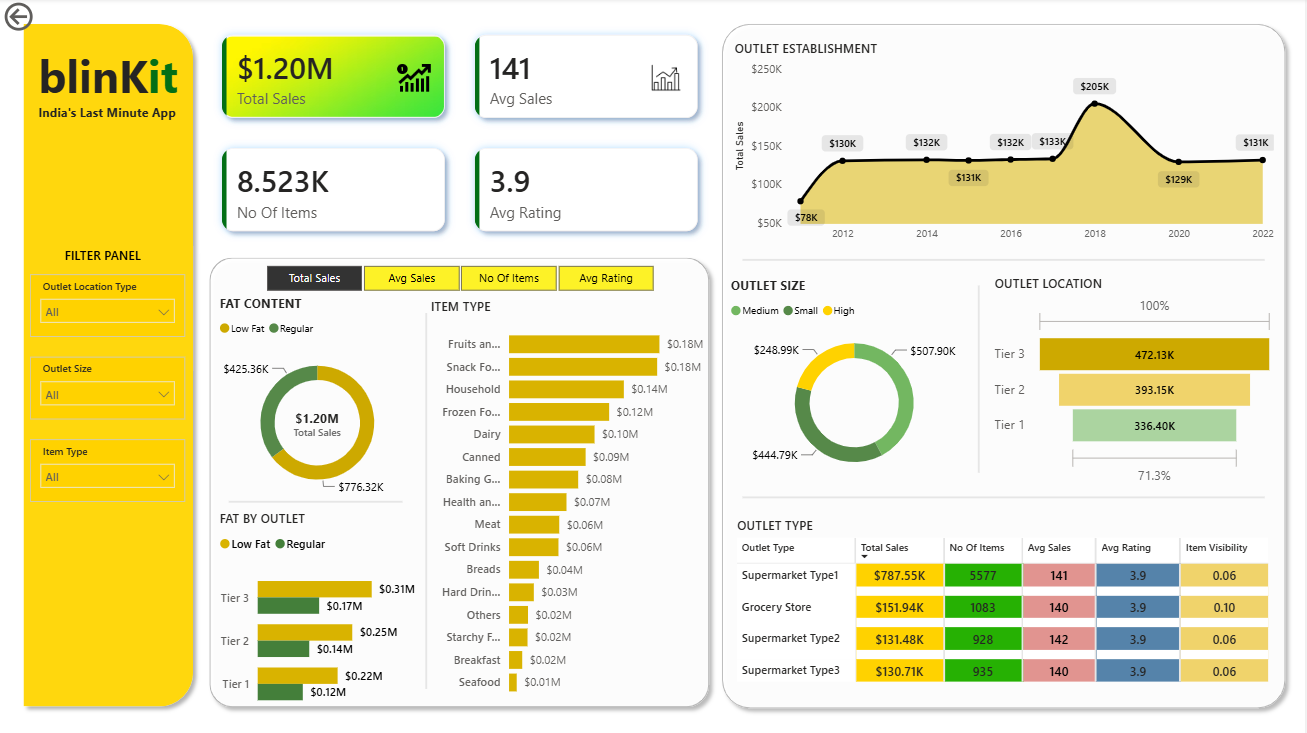

The page's visual inventory and layout, read from the dashboard file:
{"tool":"powerbi","page":{"name":"Page 1","canvas":[1400,800],"ordinal":0},"visuals":[{"type":"shape","box":[15.7,18.6,200,750],"z":0},{"type":"textbox","box":[15.7,45.7,200,124.3],"z":1000},{"type":"textbox","box":[35.7,108.6,158.6,41.4],"z":2000},{"type":"cardVisual","fields":{"Data":["BlinkIT Grocery Data.Total Sales","BlinkIT Grocery Data.Avg Sales","BlinkIT Grocery Data.No Of Items","BlinkIT Grocery Data.Avg Rating"]},"box":[209.1,10.7,569.7,269.4],"z":3000},{"type":"shape","box":[215.8,269.4,553.6,500],"z":4000},{"type":"donutChart","title":"FAT CONTENT","fields":{"Y":["BlinkIT Grocery Data.Total Sales"],"Category":["BlinkIT Grocery Data.Item Fat Content"]},"box":[230.6,317.7,219.8,230.6],"z":5000},{"type":"slicer","fields":{"Values":["Matrics.Matrics"]},"box":[260.1,280.2,465.1,40.2],"z":6000},{"type":"actionButton","box":[0,0,100,40],"z":7000},{"type":"cardVisual","fields":{"Data":["BlinkIT Grocery Data.Total Sales"]},"box":[284.2,418.2,112.6,77.7],"z":8000},{"type":"clusteredBarChart","title":"FAT BY OUTLET","fields":{"Y":["BlinkIT Grocery Data.Total Sales"],"Category":["BlinkIT Grocery Data.Outlet Location Type"],"Series":["BlinkIT Grocery Data.Item Fat Content"]},"box":[230.6,548.3,219.8,230.6],"z":9000},{"type":"shape","box":[245.3,530.8,186.3,18.8],"z":10000},{"type":"shape","box":[446.4,337.8,21.4,403.5],"z":11000},{"type":"barChart","title":"ITEM TYPE","fields":{"Y":["BlinkIT Grocery Data.Total Sales"],"Category":["BlinkIT Grocery Data.Item Type"]},"box":[457.1,321.7,303,437],"z":12000},{"type":"shape","box":[765.4,18.8,622,752],"z":13000},{"type":"lineChart","title":"OUTLET ESTABLISHMENT","fields":{"Y":["BlinkIT Grocery Data.Total Sales"],"Category":["BlinkIT Grocery Data.Outlet Establishment Year"]},"box":[782.8,44.2,588.5,225.2],"z":14000},{"type":"shape","box":[796.3,262.7,560.3,36.2],"z":15000},{"type":"donutChart","title":"OUTLET SIZE","fields":{"Y":["BlinkIT Grocery Data.Total Sales"],"Category":["BlinkIT Grocery Data.Outlet Size"]},"box":[778.8,298.9,274.8,225.2],"z":16000},{"type":"shape","box":[1034.9,308.3,29.5,201.1],"z":17000},{"type":"funnel","title":"OUTLET LOCATION","fields":{"Y":["Sum(BlinkIT Grocery Data.Sales)"],"Category":["BlinkIT Grocery Data.Outlet Location Type"]},"box":[1061.7,296.2,309.7,230.6],"z":18000},{"type":"shape","box":[796.3,517.4,560.3,36.2],"z":19000},{"type":"pivotTable","title":"OUTLET TYPE","fields":{"Rows":["BlinkIT Grocery Data.Outlet Type"],"Values":["BlinkIT Grocery Data.Total Sales","BlinkIT Grocery Data.No Of Items","BlinkIT Grocery Data.Avg Sales","BlinkIT Grocery Data.Avg Rating","Avg(BlinkIT Grocery Data.Item Visibility)"]},"box":[785.5,556.3,584.5,219.8],"z":20000},{"type":"slicer","fields":{"Values":["BlinkIT Grocery Data.Outlet Location Type"]},"box":[32.2,296.2,166.2,67],"z":21000},{"type":"slicer","fields":{"Values":["BlinkIT Grocery Data.Item Type"]},"box":[32.2,473.2,166.2,67],"z":22000},{"type":"slicer","fields":{"Values":["BlinkIT Grocery Data.Outlet Size"]},"box":[32.2,384.7,166.2,67],"z":23000},{"type":"textbox","box":[64.3,261.4,104.3,34.3],"z":24000}]}

Visuals, with their boxes on the page's 1400x800 design canvas (x1, y1, x2, y2). These are canvas units, not pixel positions in the 1307x733 screenshot, which may show the page scaled, cropped or inside an application window:
shape: [left=16, top=19, right=216, bottom=769]
textbox: [left=16, top=46, right=216, bottom=170]
textbox: [left=36, top=109, right=194, bottom=150]
cardVisual - BlinkIT Grocery Data.Total Sales x BlinkIT Grocery Data.Avg Sales: [left=209, top=11, right=779, bottom=280]
shape: [left=216, top=269, right=769, bottom=769]
"FAT CONTENT" donutChart: [left=231, top=318, right=450, bottom=548]
slicer - Matrics.Matrics: [left=260, top=280, right=725, bottom=320]
actionButton: [left=0, top=0, right=100, bottom=40]
cardVisual - BlinkIT Grocery Data.Total Sales: [left=284, top=418, right=397, bottom=496]
"FAT BY OUTLET" clusteredBarChart: [left=231, top=548, right=450, bottom=779]
shape: [left=245, top=531, right=432, bottom=550]
shape: [left=446, top=338, right=468, bottom=741]
"ITEM TYPE" barChart: [left=457, top=322, right=760, bottom=759]
shape: [left=765, top=19, right=1387, bottom=771]
"OUTLET ESTABLISHMENT" lineChart: [left=783, top=44, right=1371, bottom=269]
shape: [left=796, top=263, right=1357, bottom=299]
"OUTLET SIZE" donutChart: [left=779, top=299, right=1054, bottom=524]
shape: [left=1035, top=308, right=1064, bottom=509]
"OUTLET LOCATION" funnel: [left=1062, top=296, right=1371, bottom=527]
shape: [left=796, top=517, right=1357, bottom=554]
"OUTLET TYPE" pivotTable: [left=786, top=556, right=1370, bottom=776]
slicer - BlinkIT Grocery Data.Outlet Location Type: [left=32, top=296, right=198, bottom=363]
slicer - BlinkIT Grocery Data.Item Type: [left=32, top=473, right=198, bottom=540]
slicer - BlinkIT Grocery Data.Outlet Size: [left=32, top=385, right=198, bottom=452]
textbox: [left=64, top=261, right=169, bottom=296]
